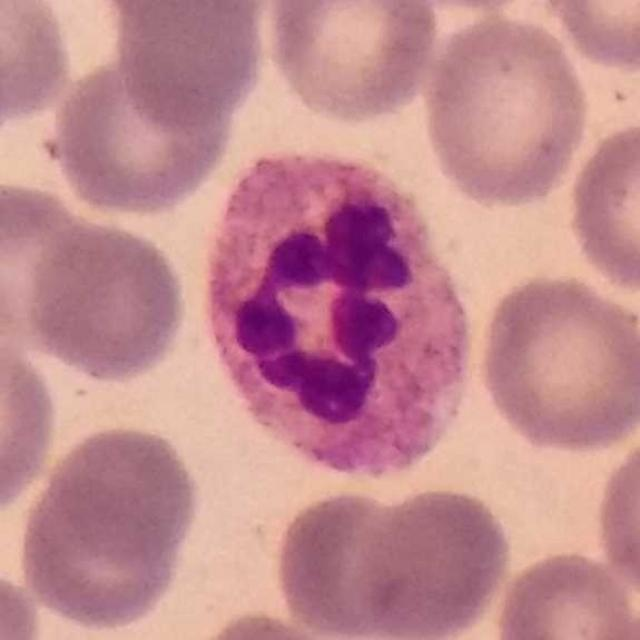Neutrophil: (187, 133, 482, 470)
RBC: (192, 146, 486, 477), (12, 418, 205, 634), (418, 12, 596, 212), (44, 48, 240, 219), (472, 268, 640, 456), (21, 213, 192, 386), (350, 482, 516, 640), (270, 484, 436, 640), (262, 0, 443, 128), (106, 0, 272, 130), (0, 173, 112, 357), (562, 114, 640, 298), (489, 545, 639, 640), (0, 332, 61, 518), (0, 0, 77, 136), (590, 426, 640, 609), (538, 0, 640, 73), (89, 0, 281, 38), (178, 606, 357, 640), (0, 564, 47, 640), (371, 0, 544, 14)
